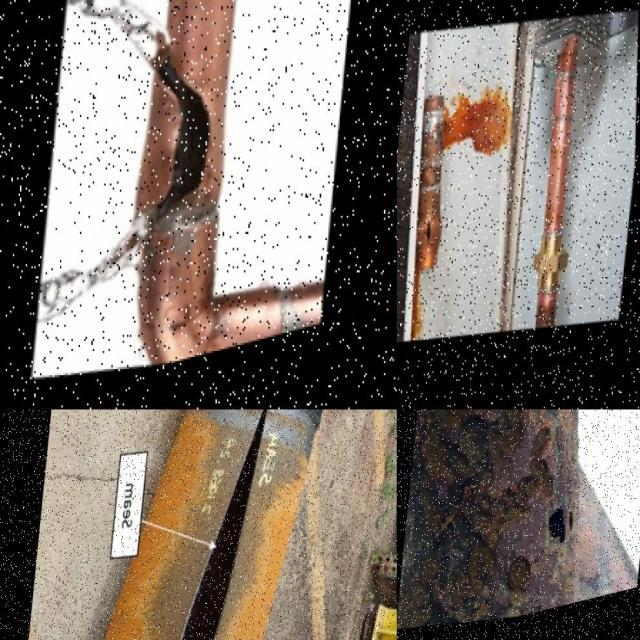hole: (545, 512, 572, 562), (542, 411, 573, 425), (569, 516, 580, 548)
rupture: (180, 409, 273, 639), (143, 62, 221, 245), (422, 213, 437, 259)
